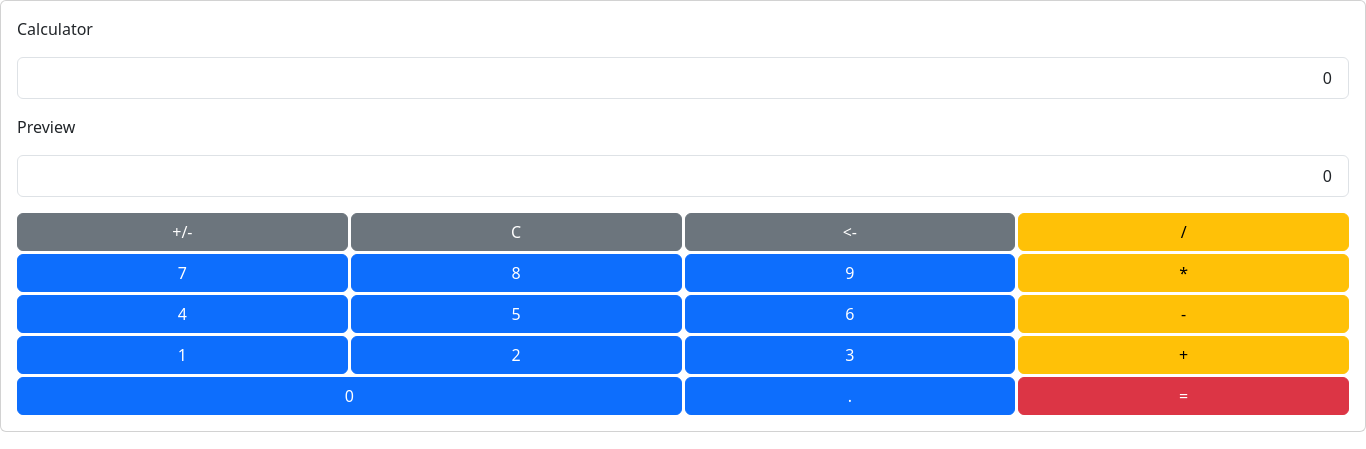
it: PriceCalculator › Should calc 2 + 2 = 4
The width and height of the screenshot is (1366, 449).
Click the button "2".
click(516, 355)  # box [351, 336, 682, 374]
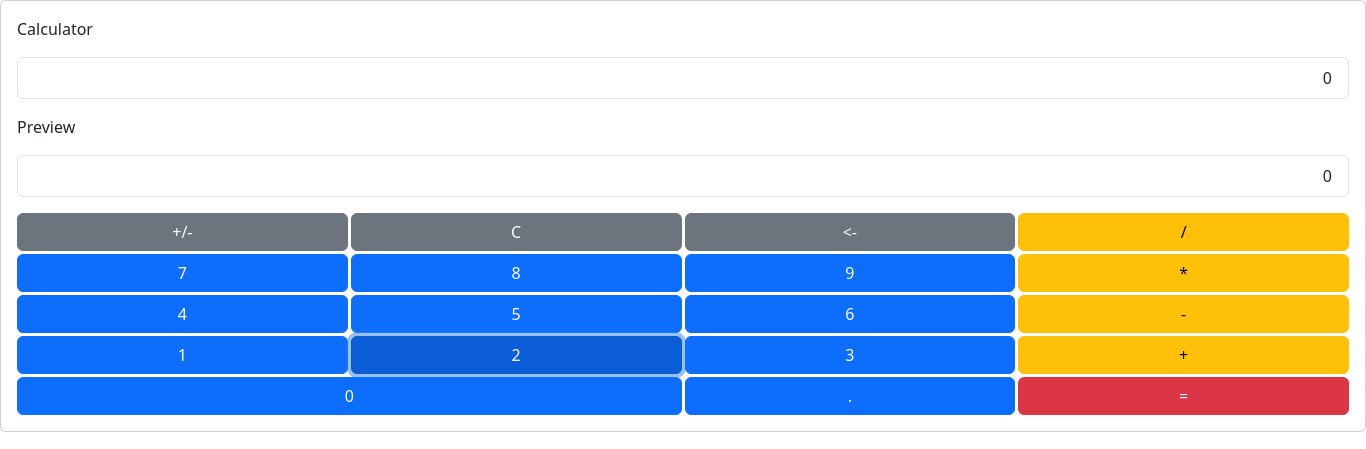
Click the button "+".
click(1184, 355)  # box [1018, 336, 1349, 374]
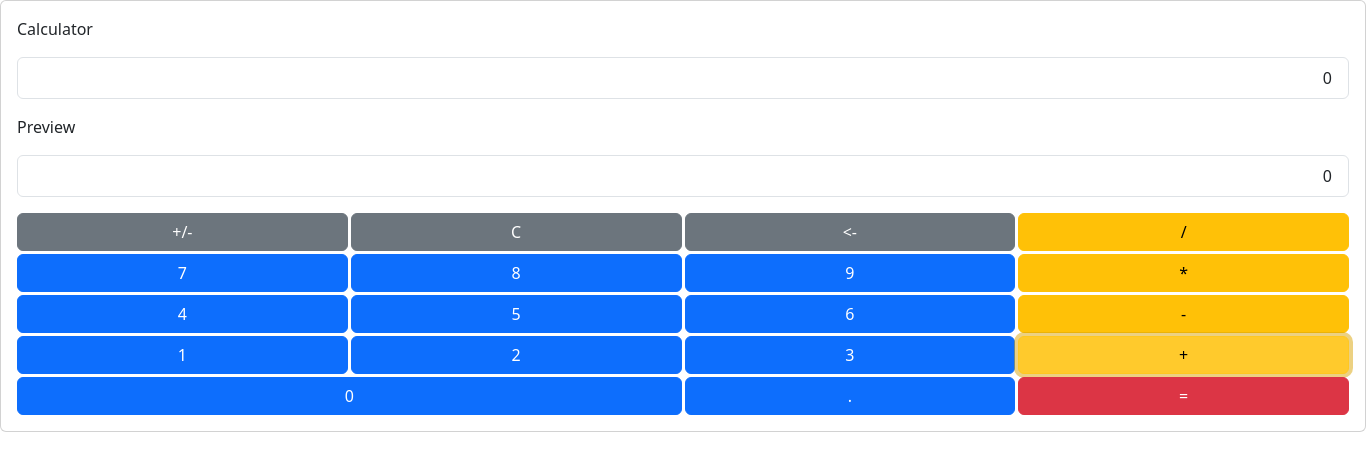
Click the button "2".
click(516, 355)  # box [351, 336, 682, 374]
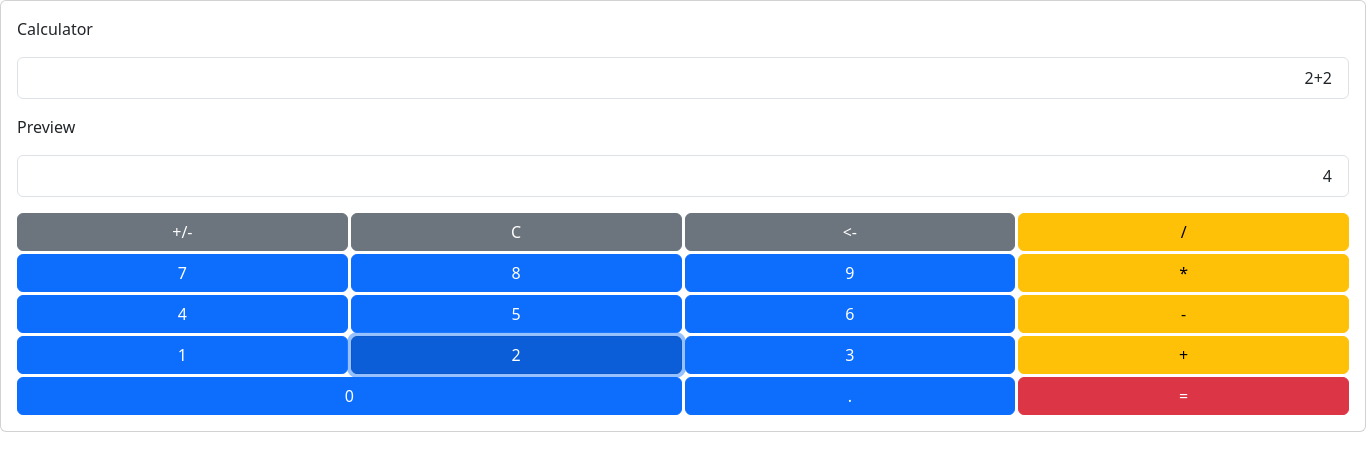
Expected: the text with test id "expression" reads "2+2", [1304, 67, 1332, 89]
Expected: the text with test id "result" reads "4", [1323, 165, 1332, 187]
